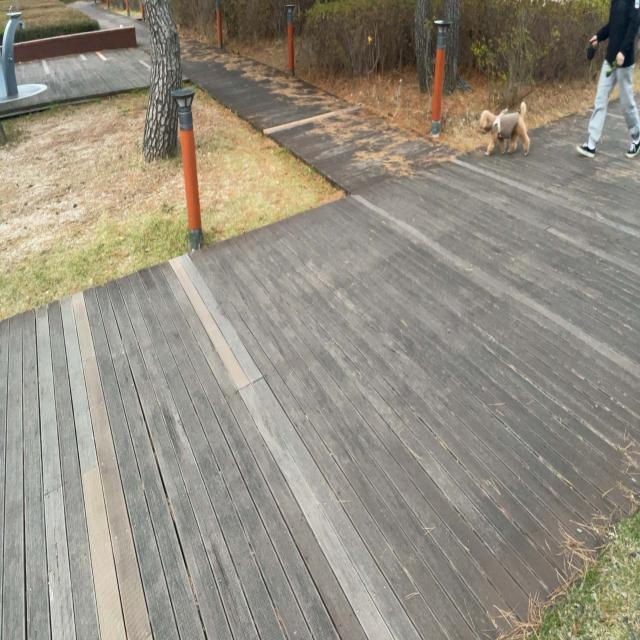Leashed_Dog: (479, 32, 617, 158)
